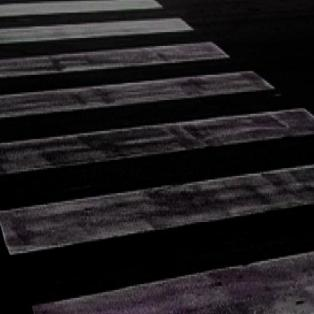Paso de Cebra: (0, 105, 314, 266)
